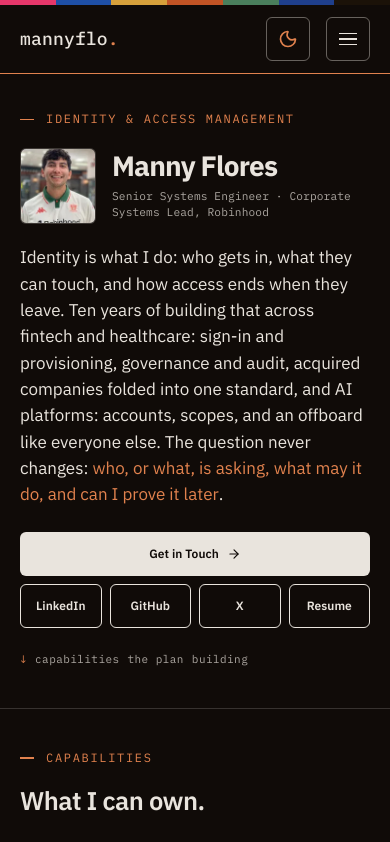
Test: App › closes the mobile menu when Escape is pressed
Click the button named "open menu" at (348, 39), box [326,17,370,61]
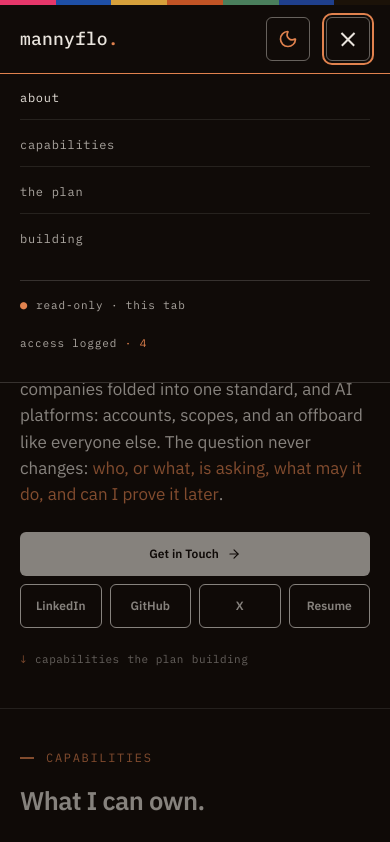
expect the button named "open menu" is expanded: met, box [326,17,370,61]
Press Escape
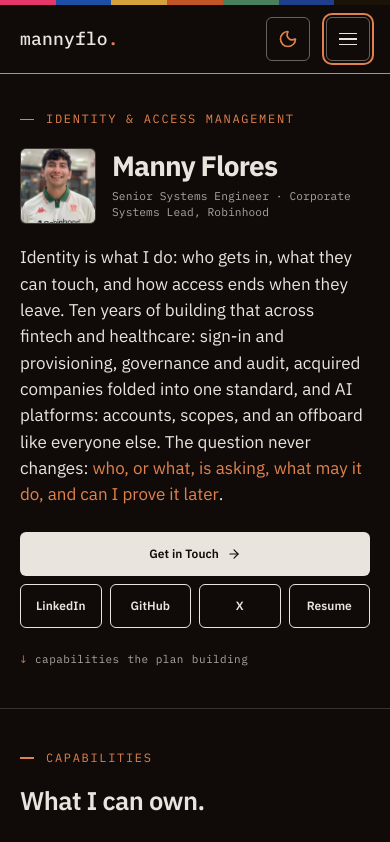
expect the button named "open menu" is collapsed: met, box [326,17,370,61]
